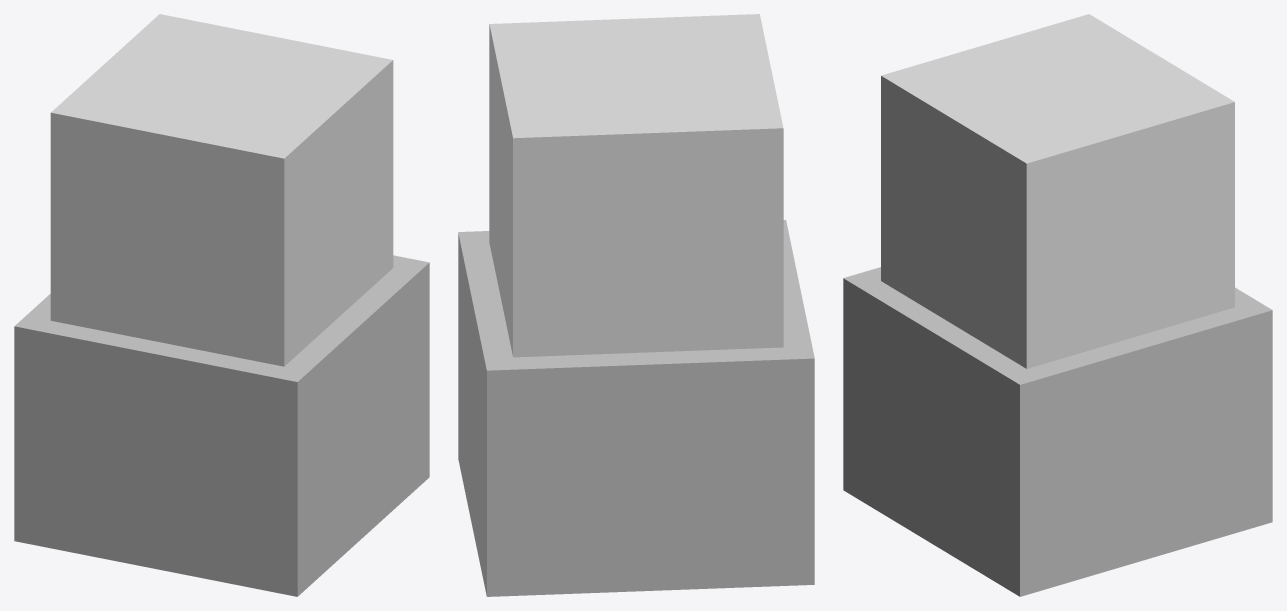
The model's file is Astrolabio.gltf.
3 renders of one model, left to right at view 1: azimuth 30°, elevation 25°; view 2: azimuth 150°, elevation 25°; view 3: azimuth 270°, elevation 25°, orthographic. The views are drawn at different scales.
Parts seen in each view (by area): view 1: Astrolabio; view 2: Astrolabio; view 3: Astrolabio.
Boxes of the visible parts, bbox=[...] form: Astrolabio: bbox=[14, 14, 429, 596]; Astrolabio: bbox=[458, 14, 814, 596]; Astrolabio: bbox=[843, 14, 1272, 596].
Bounding box in the file's own units: 1.55 × 1.66 × 1.55.
Materials: 1 (1 with a texture image).
